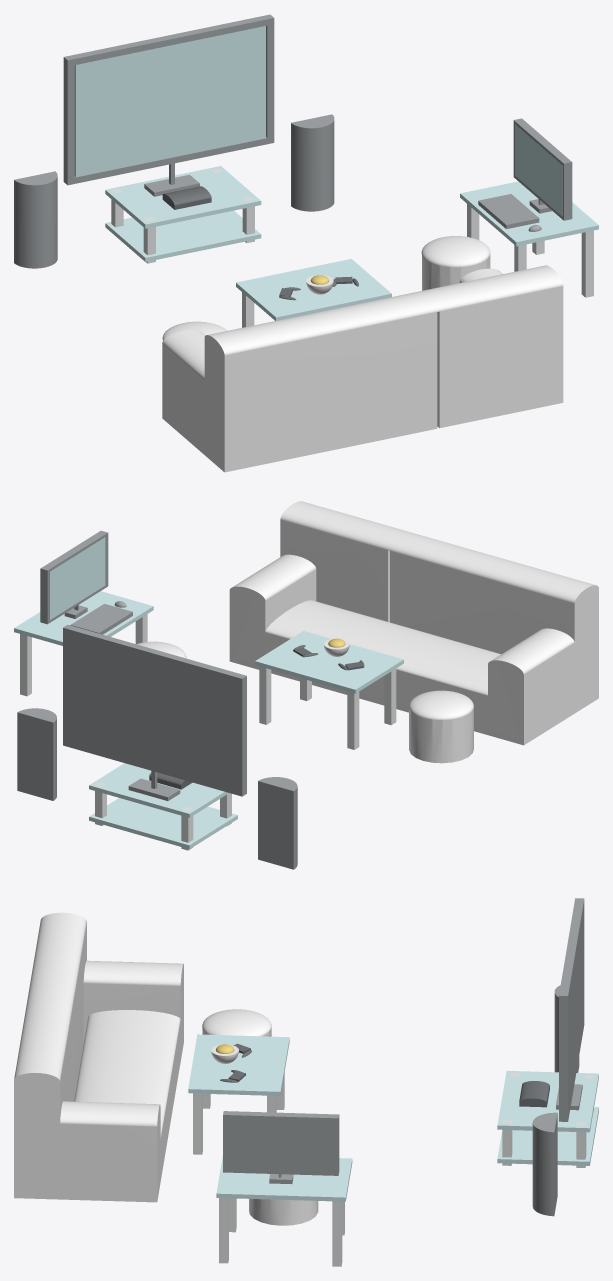
3 views of the same model, one above another, from view 1: azimuth 30°, elevation 25°; view 2: azimuth 150°, elevation 25°; view 3: azimuth 270°, elevation 25° (orthographic). The views are drawn at different scales.
Parts seen in each view (by area): view 1: Geode; view 2: Geode; view 3: Geode.
Boxes of the visible parts, x1,y1,x2,y2 form: Geode: (14,14,598,472); Geode: (14,501,598,869); Geode: (14,898,598,1266).
Size of the model in its own units: 118 by 46 by 126.
